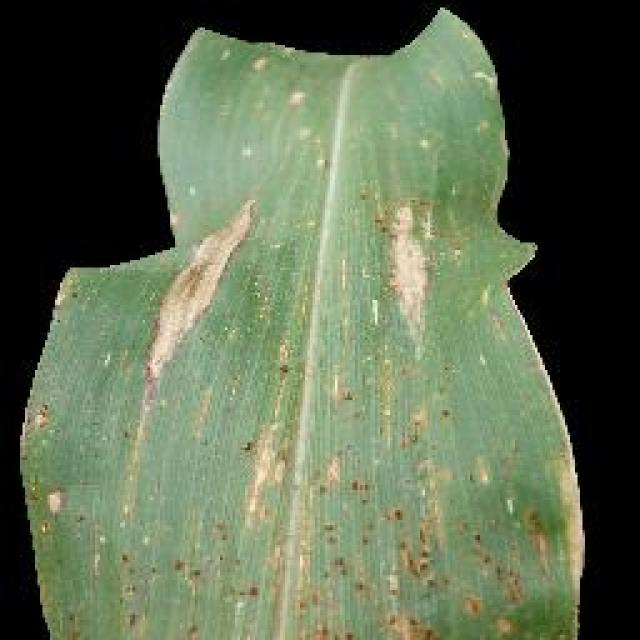Corn Common Rust: (109, 147, 548, 568)
